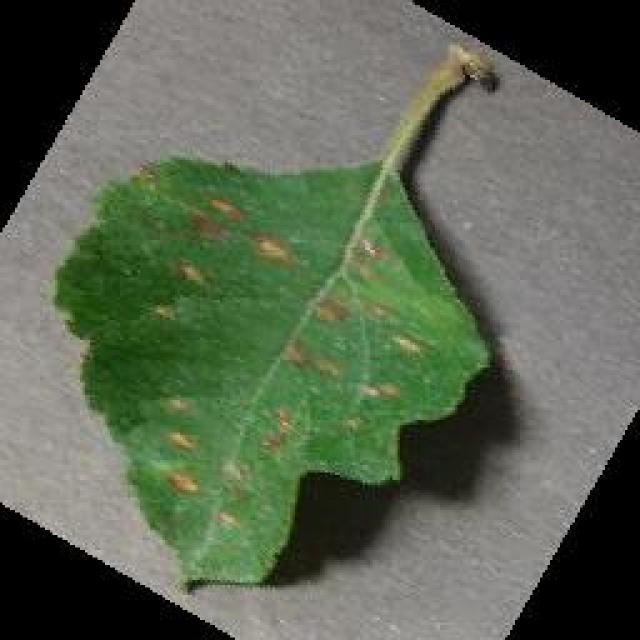apple cedar apple rust: (50, 40, 502, 590)
